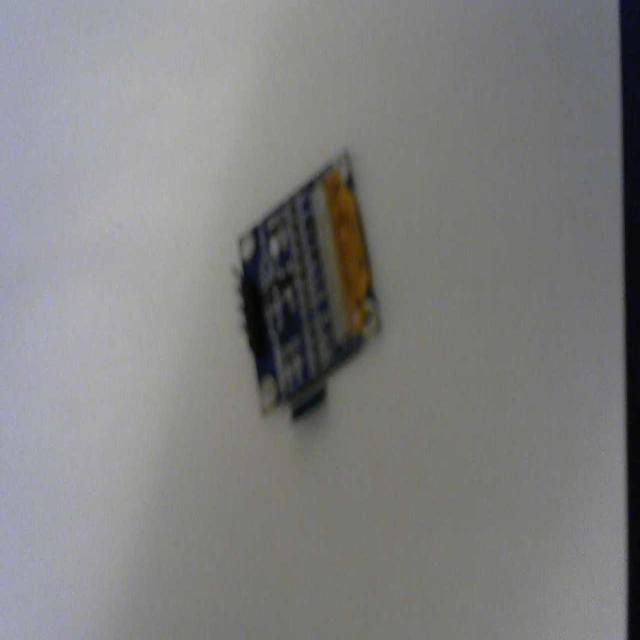oled: (225, 141, 385, 426)
